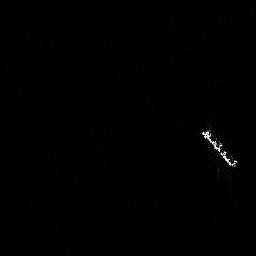ship: (201, 128, 240, 172)
